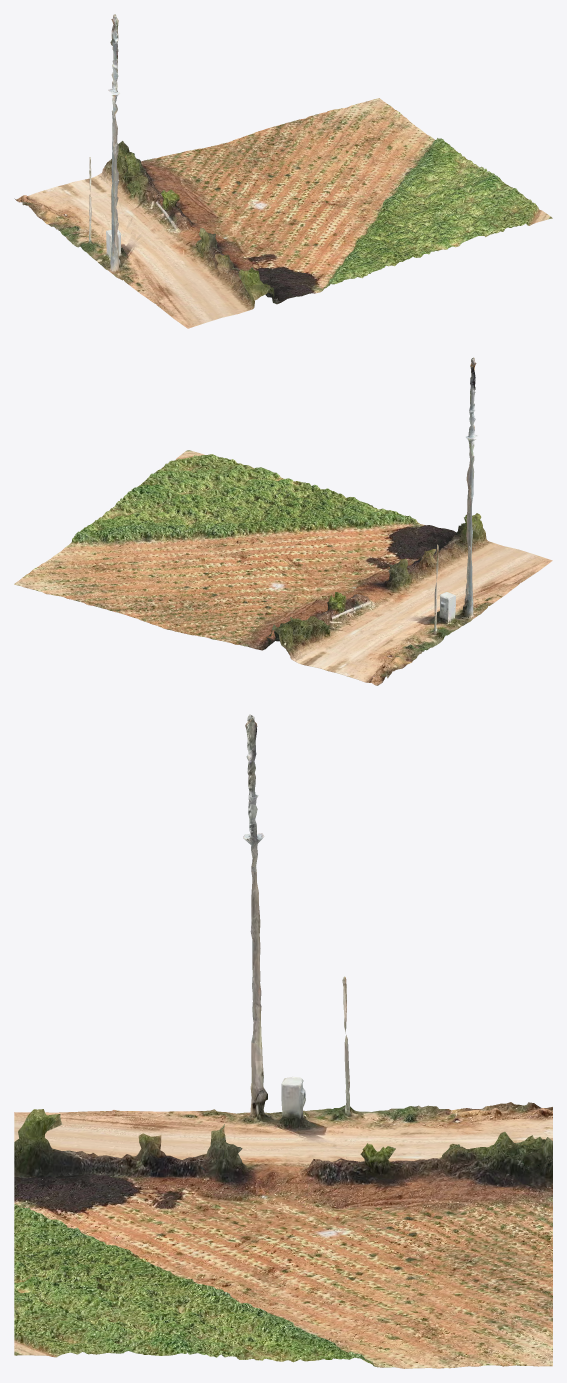
The model's file is BlockYABA_L20_53.glb.
The picture shows the model from 3 angles, top to bottom: view 1: azimuth 30°, elevation 25°; view 2: azimuth 150°, elevation 25°; view 3: azimuth 270°, elevation 25°; orthographic projection. The views are drawn at different scales.
Visible parts, largest first — view 1: rtc; view 2: rtc; view 3: rtc.
Boxes of the visible parts, box(x1,y1,x2,y2) form: rtc: box(14, 14, 552, 328); rtc: box(14, 357, 552, 685); rtc: box(14, 714, 552, 1368).
Size of the model in its own units: 32.47 by 22.03 by 26.78.
Materials: 2 (2 with a texture image).
